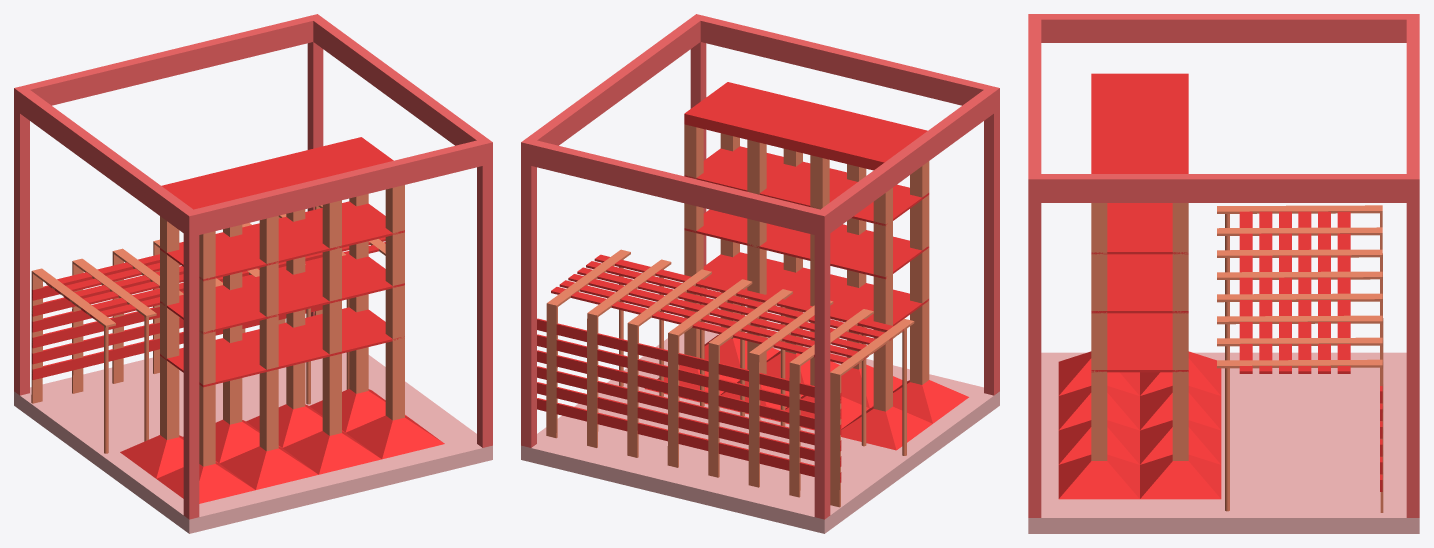
The picture shows the model from 3 angles, left to right: view 1: azimuth 30°, elevation 25°; view 2: azimuth 150°, elevation 25°; view 3: azimuth 270°, elevation 25°; orthographic projection. The views are drawn at different scales.
Visible parts, largest first — view 1: 物件_1, 物件_28, 物件_27, 物件_5, 物件_4, 物件_3, 物件_2, 物件_26, 物件_24, 物件_29, 物件_22, 物件_25 (+34 smaller); view 2: 物件_1, 物件_5, 物件_27, 物件_28, 物件_26, 物件_25, 物件_4, 物件_3, 物件_29, 物件_23, 物件_2, 物件_24 (+44 smaller); view 3: 物件_1, 物件_29, 物件_26, 物件_5, 物件_23, 物件_22, 物件_9, 物件_10, 物件_3, 物件_2, 物件_4, 物件_14 (+24 smaller).
Part boxes in pixels (bbox=[...]): 物件_1: bbox=[14, 352, 492, 533]; 物件_28: bbox=[183, 138, 492, 237]; 物件_27: bbox=[17, 14, 322, 112]; 物件_5: bbox=[161, 137, 393, 209]; 物件_4: bbox=[160, 201, 404, 281]; 物件_3: bbox=[160, 254, 404, 334]; 物件_2: bbox=[160, 307, 404, 387]; 物件_26: bbox=[14, 85, 198, 237]; 物件_24: bbox=[183, 209, 199, 519]; 物件_29: bbox=[308, 14, 492, 164]; 物件_22: bbox=[477, 138, 492, 447]; 物件_25: bbox=[14, 85, 29, 395]; 物件_1: bbox=[521, 322, 999, 533]; 物件_5: bbox=[684, 82, 927, 170]; 物件_27: bbox=[521, 138, 829, 236]; 物件_28: bbox=[692, 14, 999, 112]; 物件_26: bbox=[814, 85, 999, 237]; 物件_25: bbox=[814, 210, 830, 519]; 物件_4: bbox=[684, 146, 929, 225]; 物件_3: bbox=[684, 209, 929, 279]; 物件_29: bbox=[521, 14, 702, 164]; 物件_23: bbox=[521, 138, 536, 447]; 物件_2: bbox=[695, 252, 928, 331]; 物件_24: bbox=[984, 85, 999, 395]; 物件_1: bbox=[1028, 352, 1419, 533]; 物件_29: bbox=[1029, 174, 1419, 202]; 物件_26: bbox=[1028, 14, 1419, 42]; 物件_5: bbox=[1091, 73, 1188, 173]; 物件_23: bbox=[1406, 174, 1419, 517]; 物件_22: bbox=[1028, 175, 1041, 517]; 物件_9: bbox=[1172, 203, 1188, 460]; 物件_10: bbox=[1091, 203, 1107, 460]; 物件_3: bbox=[1091, 254, 1188, 313]; 物件_2: bbox=[1091, 313, 1188, 372]; 物件_4: bbox=[1091, 203, 1188, 254]; 物件_14: bbox=[1140, 454, 1221, 499].
Size of the model in its own units: 30.11 by 30 by 30.
